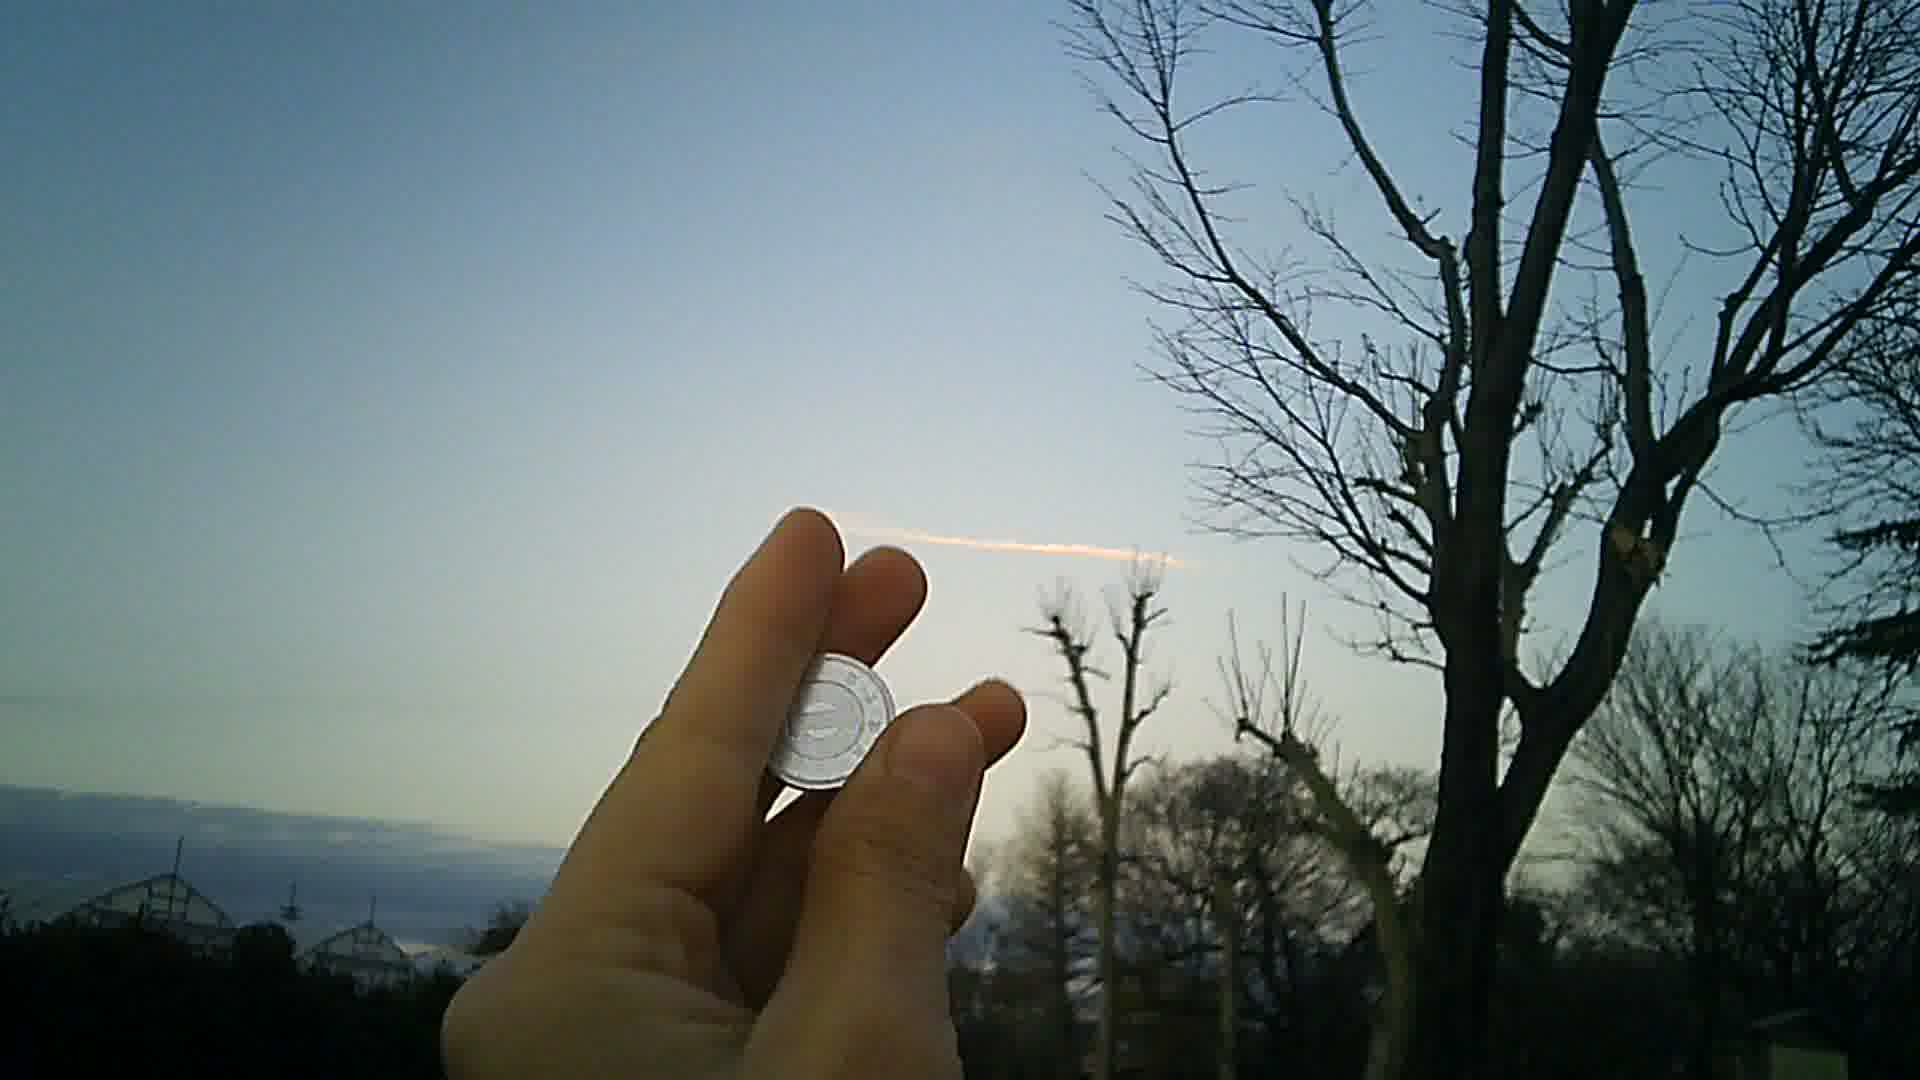1 Yen: (748, 649, 907, 793)
